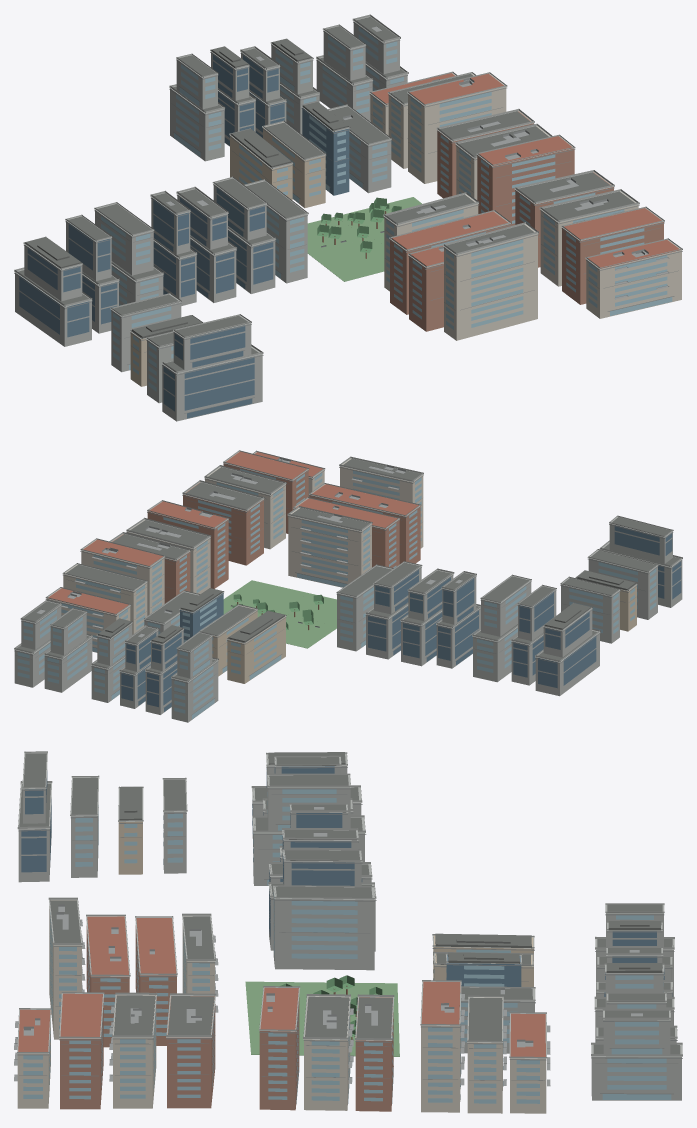
The model's file is tile-p001-m002.glb.
3 views of the same model, one above another, from view 1: azimuth 30°, elevation 25°; view 2: azimuth 150°, elevation 25°; view 3: azimuth 270°, elevation 25° (orthographic). The views are drawn at different scales.
Visible parts, largest first — view 1: building-0917-mesh-123, neighborhood-park-block-233-mesh-0, building-0818-mesh-21, building-0985-mesh-196, building-0992-mesh-240, building-0989-mesh-221, building-0917-mesh-124, building-0986-mesh-203, building-0916-mesh-117, building-0820-mesh-32, building-0922-mesh-140, building-0985-mesh-197 (+75 smaller); view 2: neighborhood-park-block-233-mesh-0, building-0914-mesh-104, building-0988-mesh-215, building-0914-mesh-105, building-0920-mesh-130, building-0917-mesh-123, building-0989-mesh-221, building-0820-mesh-32, building-0924-mesh-151, building-0815-mesh-5, building-0865-mesh-99, building-0992-mesh-240 (+92 smaller); view 3: building-0865-mesh-99, building-0988-mesh-215, neighborhood-park-block-233-mesh-0, building-0989-mesh-221, building-0986-mesh-203, building-0996-mesh-271, building-0992-mesh-240, building-0865-mesh-100, building-0990-mesh-227, building-0987-mesh-208, building-0991-mesh-234, building-0916-mesh-120 (+66 smaller).
Part boxes in pixels (x1,y1,x2,y2): building-0917-mesh-123: (444,224,537,340); neighborhood-park-block-233-mesh-0: (307,197,421,281); building-0818-mesh-21: (163,357,254,418); building-0985-mesh-196: (586,240,681,318); building-0992-mesh-240: (408,74,506,183); building-0989-mesh-221: (477,136,574,225); building-0917-mesh-124: (446,239,523,329); building-0986-mesh-203: (562,208,663,304); building-0916-mesh-117: (409,256,443,331); building-0820-mesh-32: (19,276,89,337); building-0922-mesh-140: (302,107,349,195); building-0985-mesh-197: (588,255,672,315); neighborhood-park-block-233-mesh-0: (223,580,336,648); building-0914-mesh-104: (288,508,371,587); building-0988-mesh-215: (183,482,263,565); building-0914-mesh-105: (297,520,369,587); building-0920-mesh-130: (227,616,285,683); building-0917-mesh-123: (340,458,423,548); building-0989-mesh-221: (147,507,228,588); building-0820-mesh-32: (538,635,596,688); building-0924-mesh-151: (171,661,218,722); building-0815-mesh-5: (561,578,619,643); building-0865-mesh-99: (337,566,391,651); building-0992-mesh-240: (81,540,164,615); building-0865-mesh-99: (273,887,374,970); building-0988-mesh-215: (167,996,215,1108); neighborhood-park-block-233-mesh-0: (245,981,399,1056); building-0989-mesh-221: (259,997,299,1110); building-0986-mesh-203: (60,1003,103,1109); building-0996-mesh-271: (591,1045,681,1100); building-0992-mesh-240: (421,1012,460,1112); building-0865-mesh-100: (273,892,357,958); building-0990-mesh-227: (304,996,350,1110); building-0987-mesh-208: (113,995,156,1108); building-0991-mesh-234: (355,997,393,1111); building-0916-mesh-120: (87,916,128,974).
Bounding box in the file's own units: 257 × 42.13 × 257.
